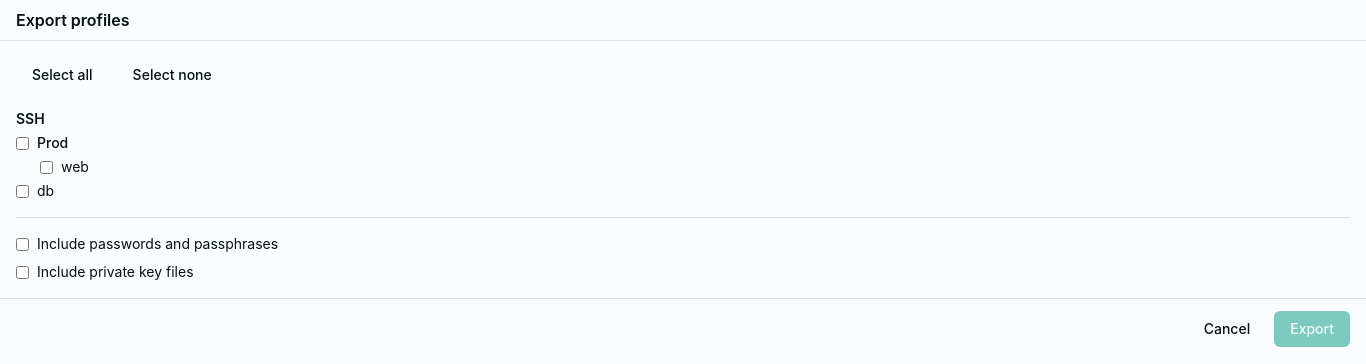
it: group checkbox selects its profiles and exports without a password
Click the checkbox labelled "Prod".
click(22, 143)  # box top-left (16, 136), bottom-right (29, 150)
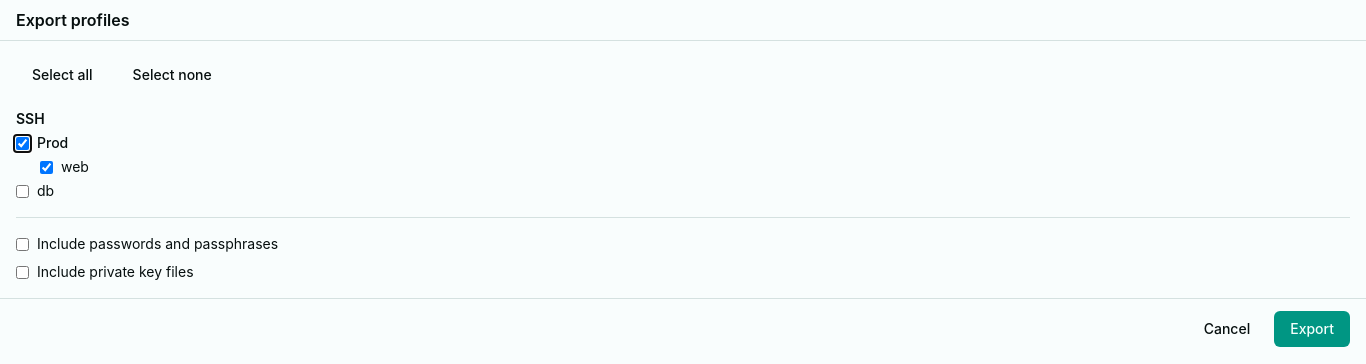
Click the button "Export".
click(1312, 329)  # box top-left (1274, 311), bottom-right (1350, 347)
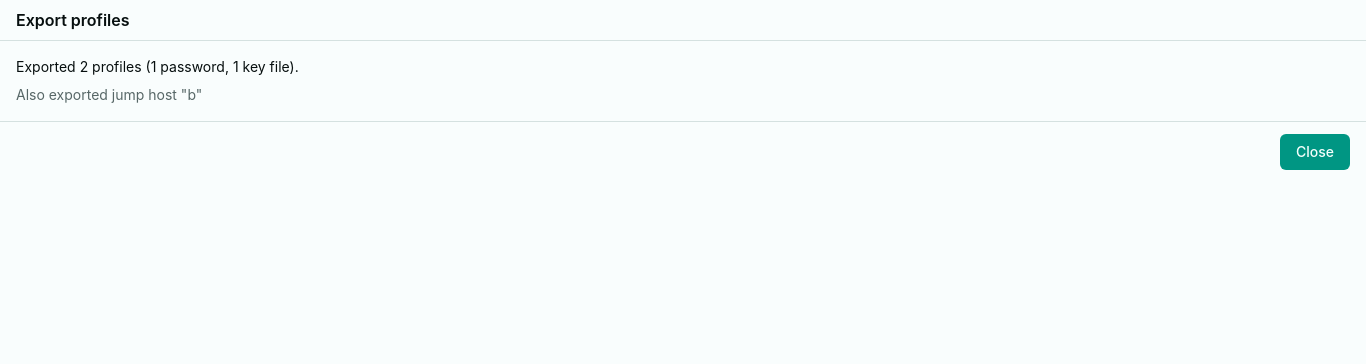
Check: the text "Exported 2 profiles (1 password, 1 key file)." is shown, box top-left (16, 58), bottom-right (299, 75)
Check: the list item "Also exported jump host \"b\"" is shown, box top-left (16, 86), bottom-right (202, 103)
